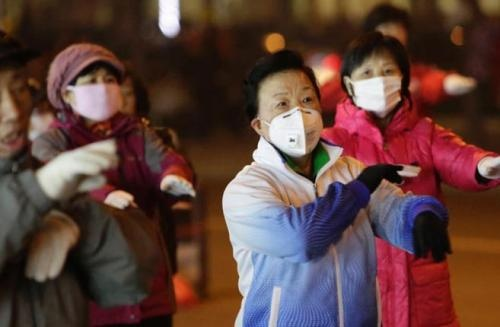correctlyWear: (250, 81, 324, 158), (342, 60, 403, 119), (61, 69, 125, 122)
noWear: (1, 63, 34, 157)
